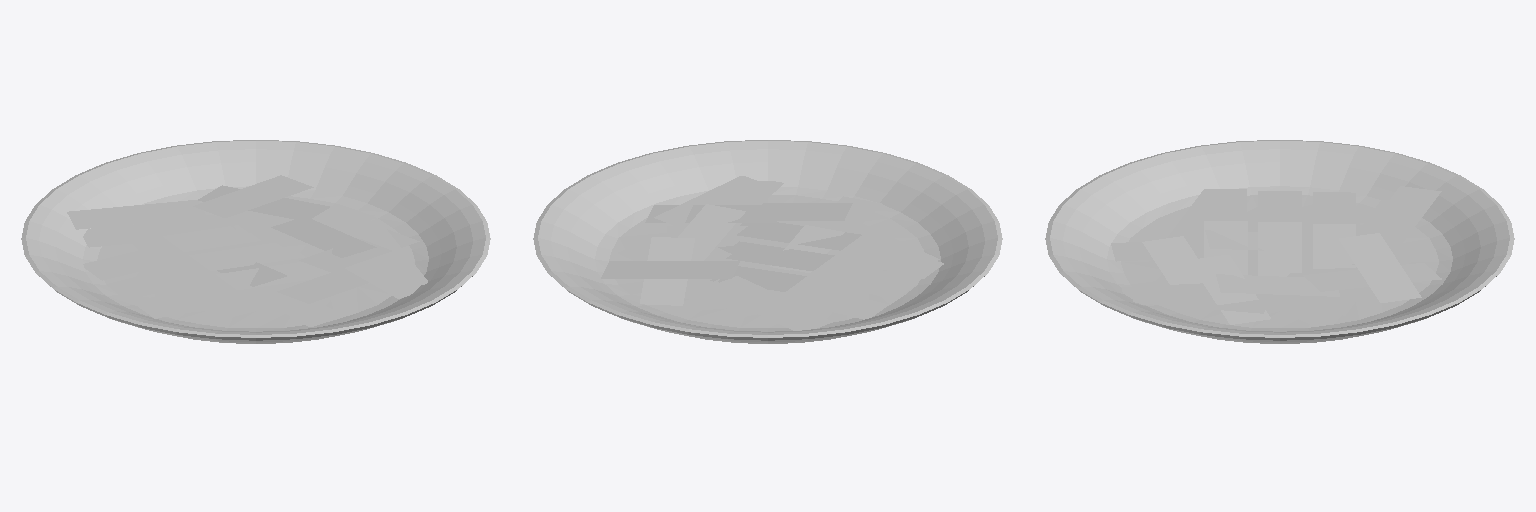
Rendered from kue bawang.obj.
3 renders of one model, left to right at view 1: azimuth 30°, elevation 25°; view 2: azimuth 150°, elevation 25°; view 3: azimuth 270°, elevation 25°, orthographic.
Parts seen in each view (by area): view 1: Cylinder, Plane.013, Plane.007, Plane.003, Plane.014, Plane.019, Plane.004, Plane.017, Plane, Plane.002, Plane.009, Plane.006 (+11 smaller); view 2: Cylinder, Plane.013, Plane.014, Plane.007, Plane.022, Plane.019, Plane.017, Plane.004, Plane.002, Plane, Plane.005, Plane.009 (+8 smaller); view 3: Cylinder, Plane.014, Plane.004, Plane.013, Plane.019, Plane.007, Plane.012, Plane.017, Plane.009, Plane.006, Plane.022, Plane.002 (+6 smaller).
Boxes of the visible parts, x1,y1,x2,y2 form: Cylinder: [21, 140, 490, 343]; Plane.013: [67, 200, 206, 229]; Plane.007: [151, 285, 290, 314]; Plane.003: [83, 217, 215, 247]; Plane.014: [193, 175, 313, 217]; Plane.019: [350, 230, 427, 289]; Plane.004: [189, 243, 305, 270]; Plane.017: [271, 219, 376, 257]; Plane: [107, 267, 221, 299]; Plane.002: [83, 245, 174, 280]; Plane.009: [277, 268, 368, 303]; Plane.006: [163, 225, 260, 251]; Cylinder: [533, 140, 1002, 343]; Plane.013: [706, 276, 827, 329]; Plane.014: [601, 261, 739, 278]; Plane.007: [824, 218, 939, 271]; Plane.022: [640, 237, 694, 305]; Plane.019: [654, 176, 774, 228]; Plane.017: [678, 204, 745, 260]; Plane.004: [718, 241, 834, 270]; Plane.002: [789, 287, 888, 319]; Plane: [823, 262, 916, 299]; Plane.005: [737, 222, 861, 250]; Plane.009: [762, 203, 852, 220]; Cylinder: [1045, 140, 1514, 343]; Plane.014: [1339, 233, 1421, 302]; Plane.004: [1258, 222, 1301, 276]; Plane.013: [1363, 186, 1441, 245]; Plane.019: [1133, 285, 1271, 313]; Plane.007: [1167, 189, 1244, 248]; Plane.012: [1188, 255, 1270, 324]; Plane.017: [1216, 274, 1339, 296]; Plane.009: [1142, 236, 1201, 284]; Plane.006: [1313, 224, 1355, 268]; Plane.022: [1303, 263, 1441, 291]; Plane.002: [1313, 192, 1355, 223].
Bounding box in the file's own units: 2.31 × 0.1971 × 2.31.